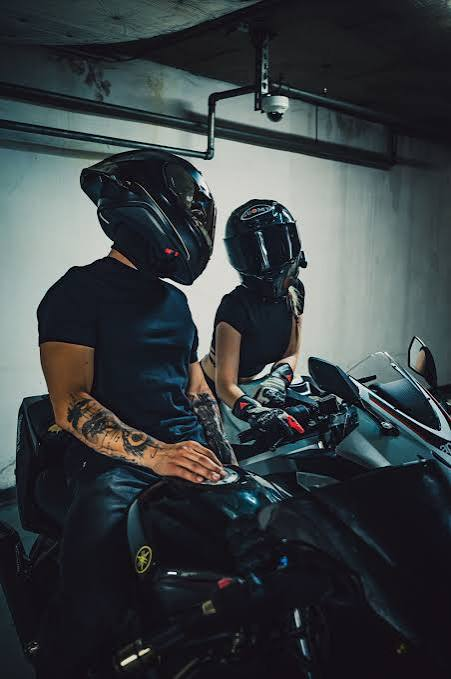helmet: (80, 150, 216, 285), (225, 199, 307, 299)
